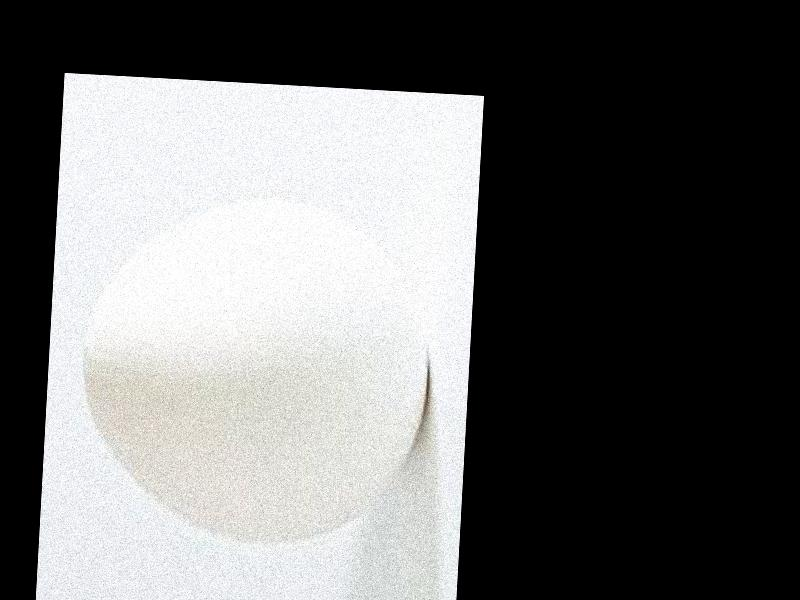Eggs: (71, 191, 436, 548)
